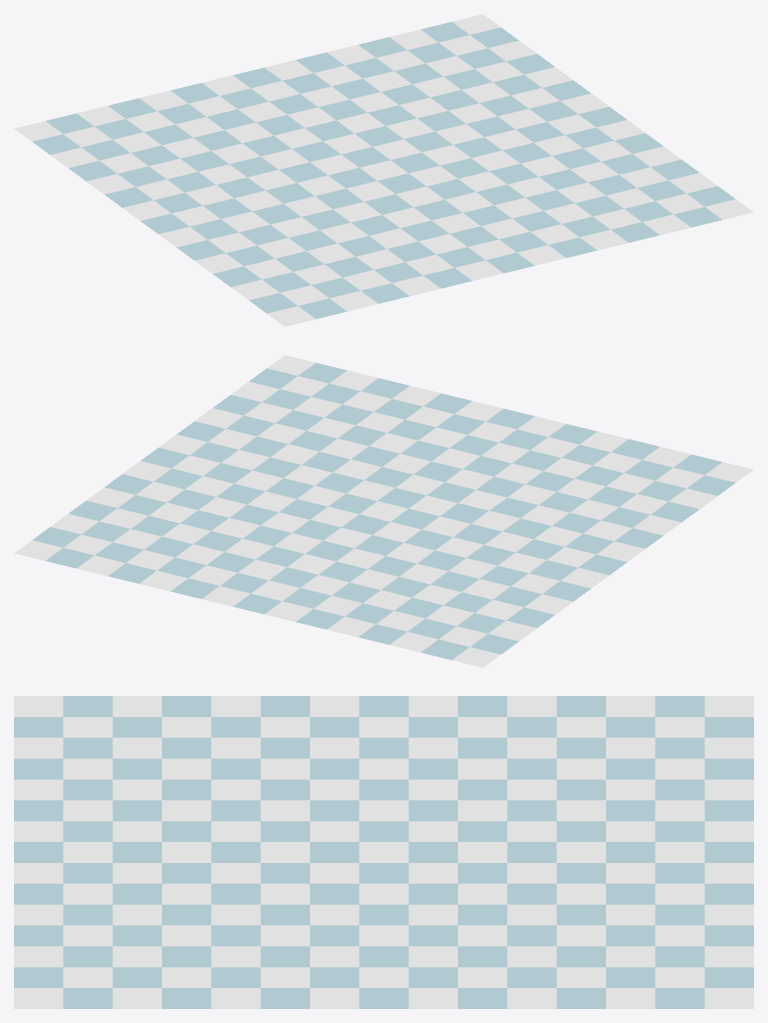
Rendered from ground.fbx.
The picture shows the model from 3 angles, top to bottom: view 1: azimuth 30°, elevation 25°; view 2: azimuth 150°, elevation 25°; view 3: azimuth 270°, elevation 25°; orthographic projection. The views are drawn at different scales.
Visible parts, largest first — view 1: Plane.001; view 2: Plane.001; view 3: Plane.001.
Boxes of the visible parts, x1=… form: Plane.001: x1=14, y1=14, x2=753, y2=326; Plane.001: x1=14, y1=355, x2=753, y2=667; Plane.001: x1=14, y1=696, x2=753, y2=1008.
Size of the model in its own units: 6049 by 0 by 6049.
